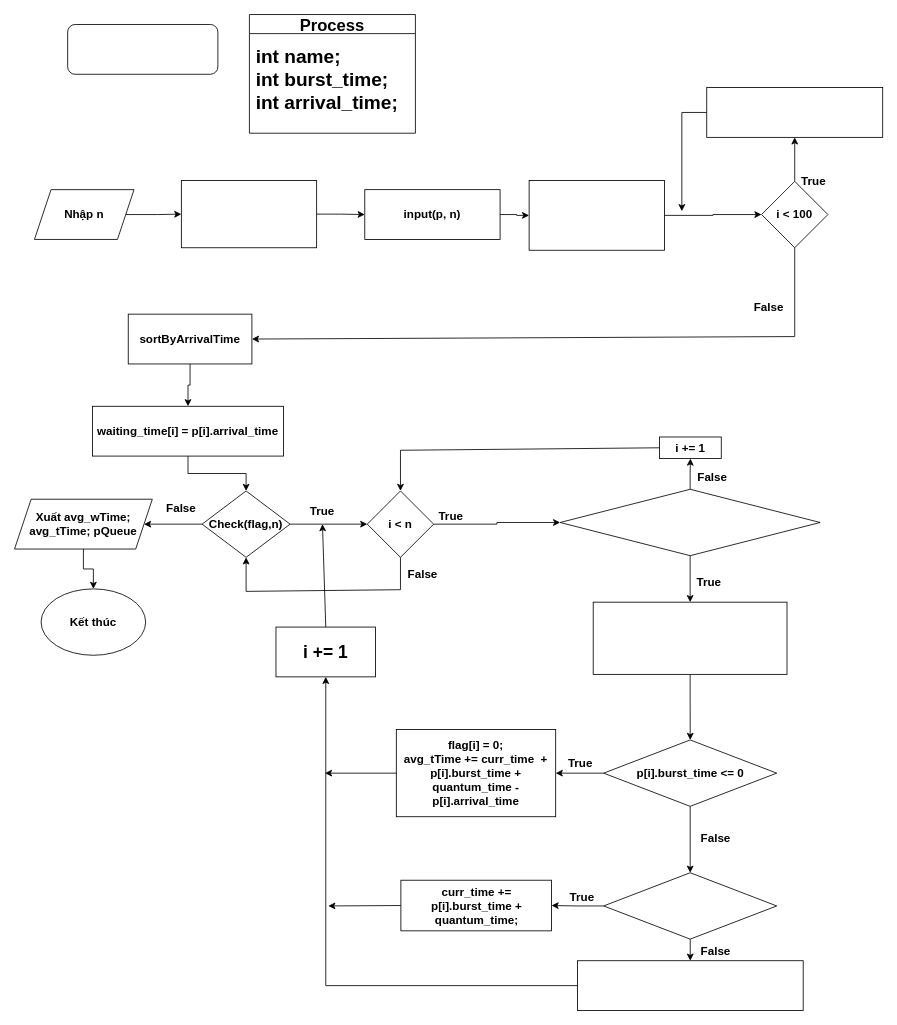
This 897x1025 diagram has some shape labels left out. Each missing label, with the centre of its shape:
"curr_time >= p[i].arrival_Time flag[i] == 1" belongs at [689,522].
"flag[i] = 1; waiting_time[i] = p[i].arrival_time" belongs at [794,112].
"i = 0 queue<int> pStartTime; avg_wTime = 0; avg_tTime" belongs at [249,214].
"int curr_time = 0; queue<Process> pQueue int flag[100];" belongs at [596,215].
"Lưu đồ thuật toán Round Robin" belongs at [142,49].
"p[i].burst_time < 0" belongs at [690,905].
"pQueue.push(p[i]) pStart_time.push(curr_time); p[i].burst_time -= quantum_time;" belongs at [689,637].
"waiting_time[i] = curr_time;" belongs at [690,985].
